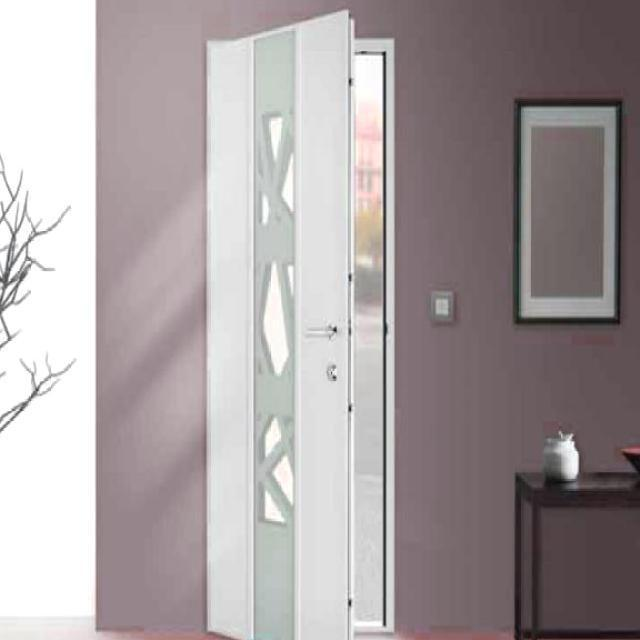door: (196, 7, 363, 637)
